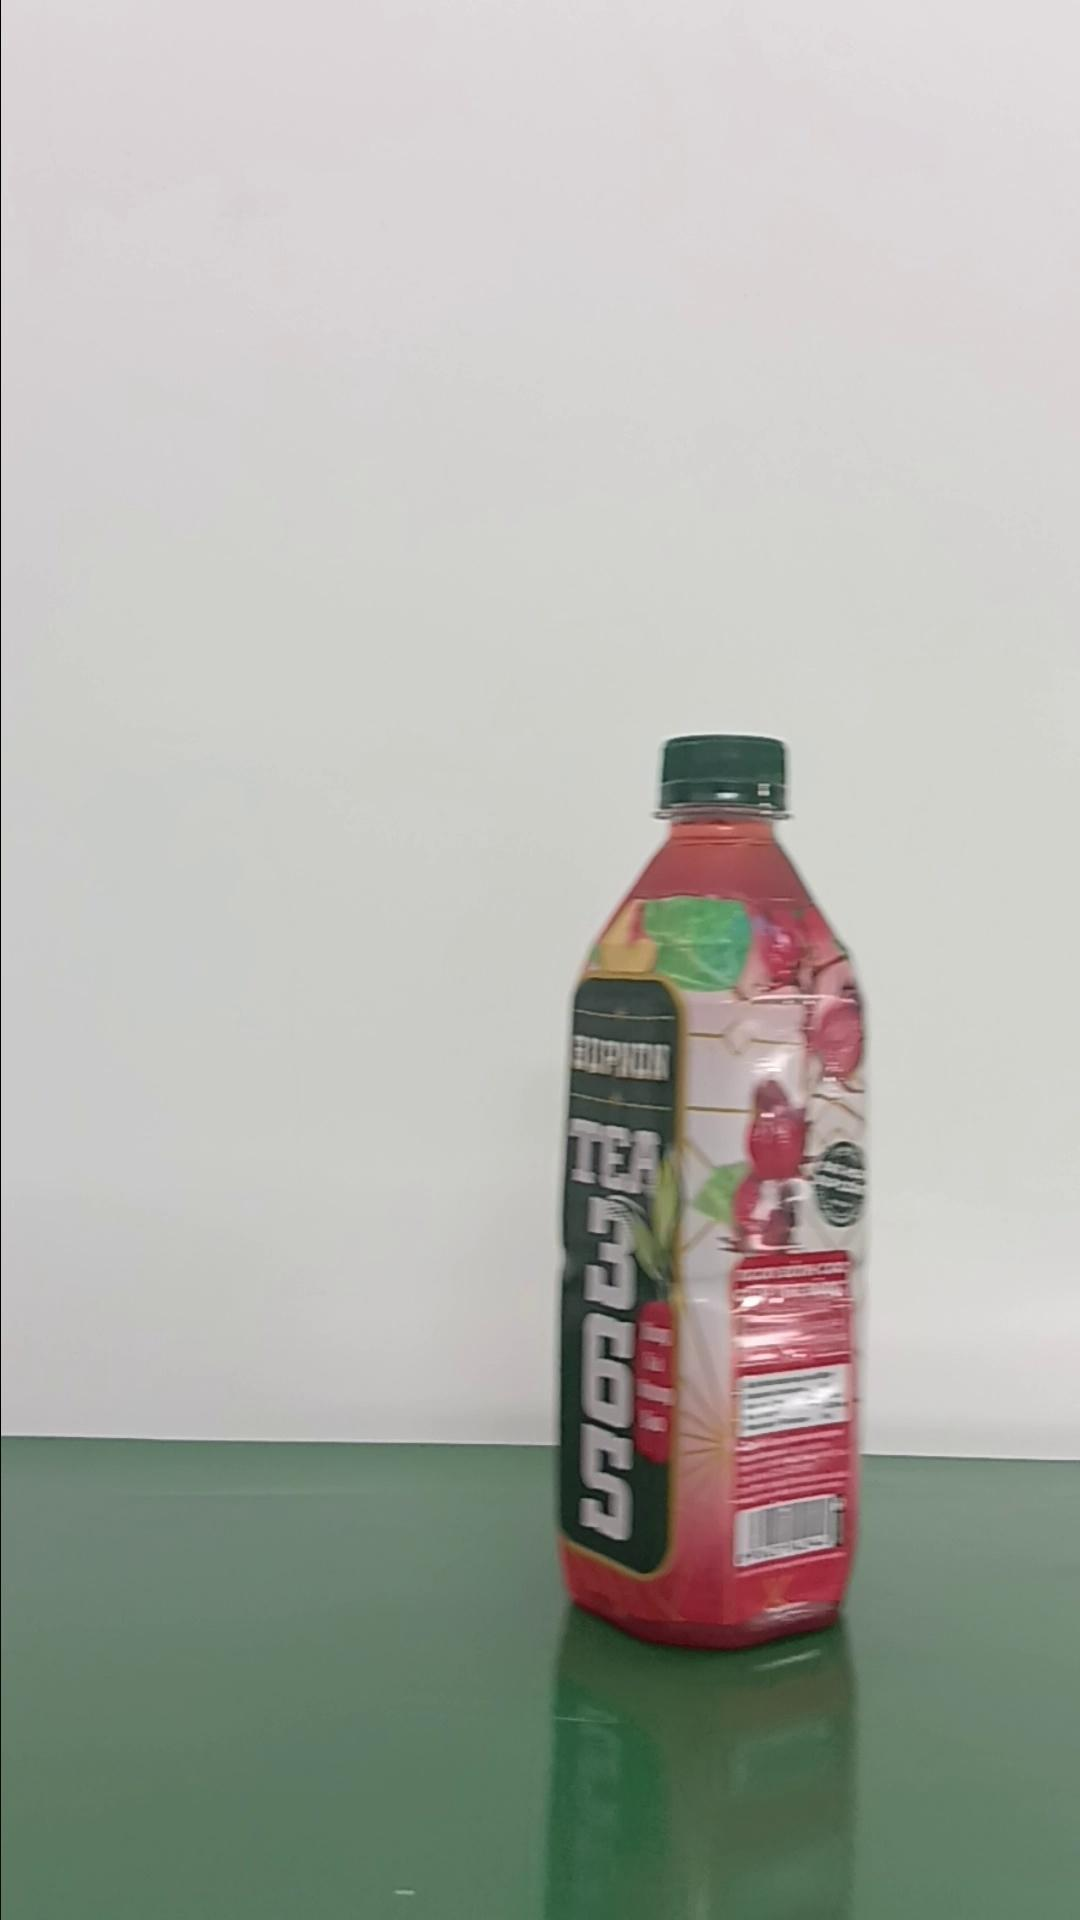khong loi: (553, 731, 872, 1651)
